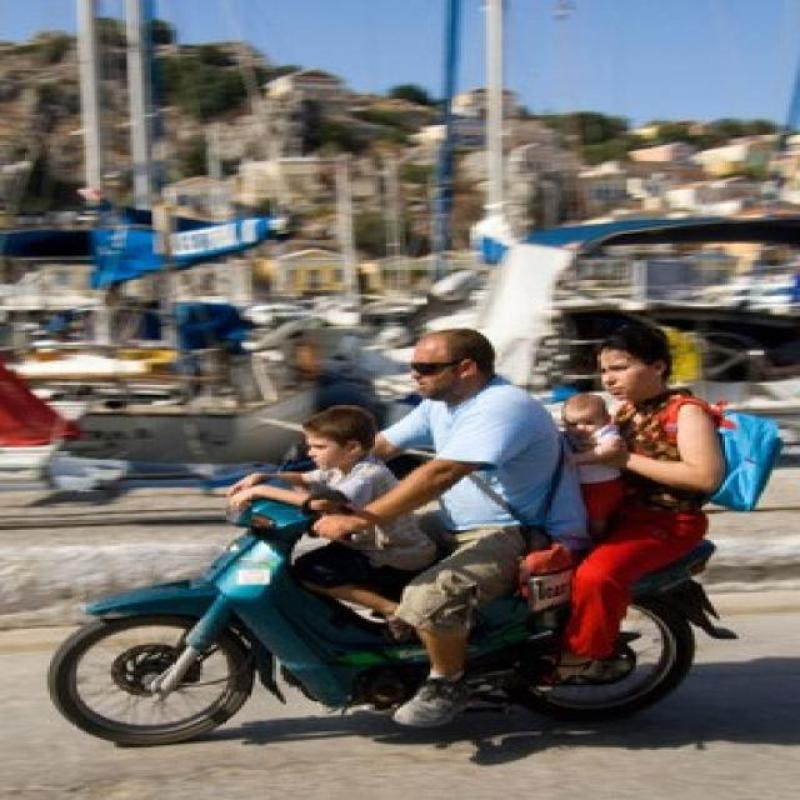nohelmet: (394, 320, 510, 395), (595, 319, 676, 405), (298, 407, 374, 467)
